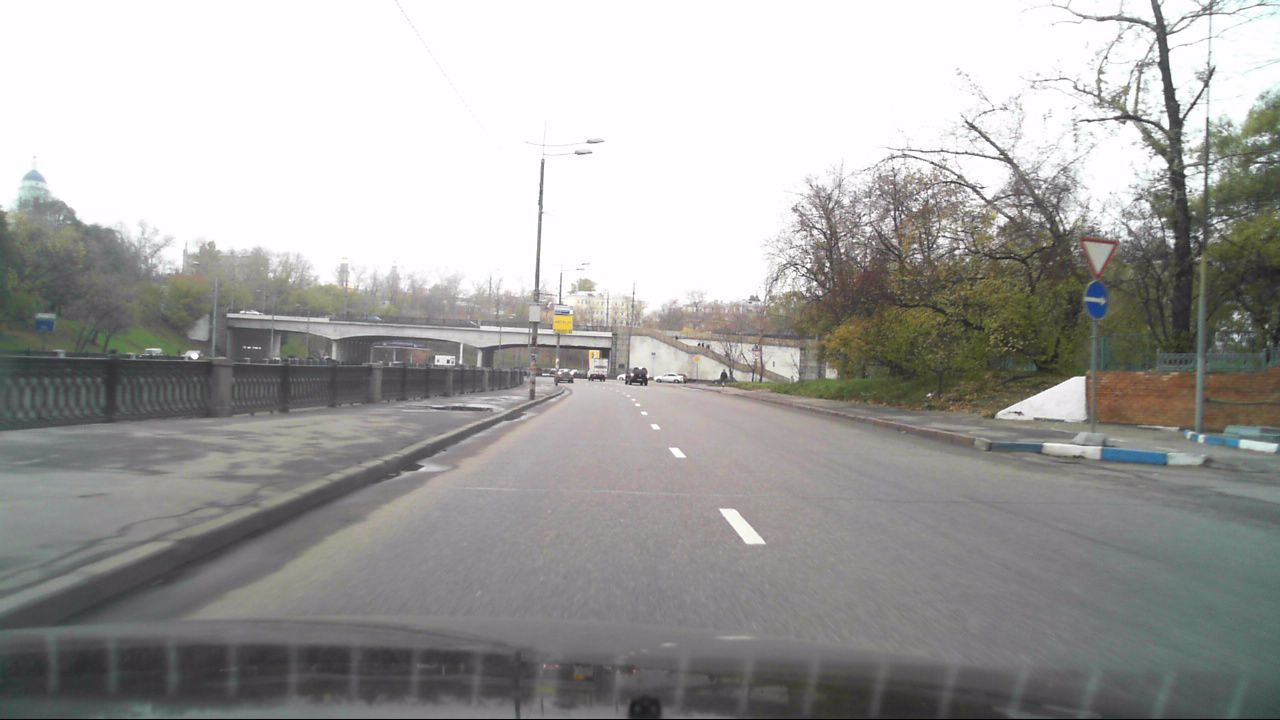Turn Right: (1085, 280, 1109, 319)
